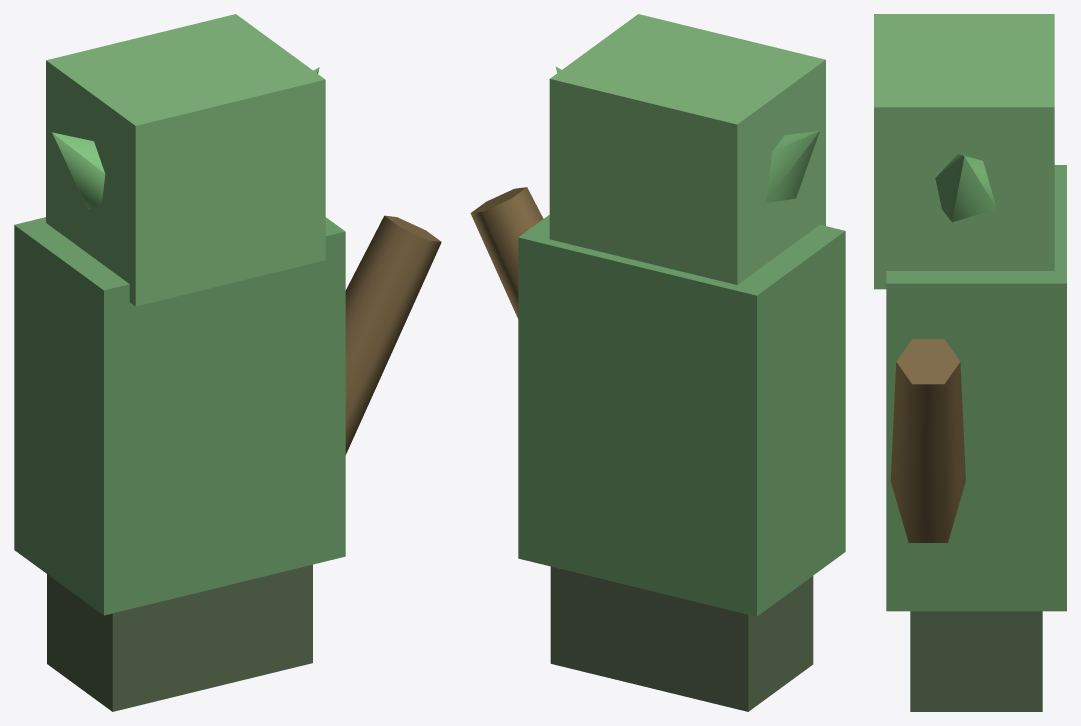
File: goblin.glb
3 renders of one model, left to right at view 1: azimuth 30°, elevation 25°; view 2: azimuth 150°, elevation 25°; view 3: azimuth 270°, elevation 25°, orthographic.
Parts seen in each view (by area): view 1: Torso, Weapon; view 2: Torso, Weapon; view 3: Torso, Weapon.
Part boxes in pixels (x1,y1,x2,y2): Torso: (14,14,345,711); Weapon: (345,215,441,454); Torso: (518,14,845,711); Weapon: (470,187,543,318); Torso: (874,14,1066,711); Weapon: (890,339,965,542).
Bounding box in the file's own units: 1.05 × 1.66 × 0.48.
